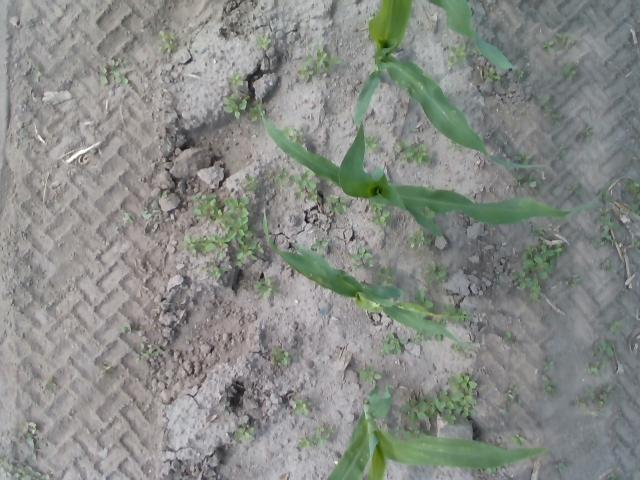Maize: (259, 108, 612, 236), (353, 1, 545, 169), (262, 208, 481, 348), (327, 402, 544, 480), (428, 0, 518, 71)
Weeds: (184, 191, 265, 279), (401, 372, 479, 436), (513, 241, 561, 302), (298, 44, 344, 86), (592, 206, 620, 253), (393, 136, 430, 164), (0, 459, 50, 479), (592, 382, 620, 414), (98, 58, 130, 86), (289, 171, 318, 201), (534, 94, 564, 120), (153, 29, 180, 55), (221, 94, 249, 118), (498, 382, 520, 412), (379, 333, 406, 356), (250, 276, 274, 301), (365, 204, 391, 227), (311, 421, 333, 448), (267, 345, 293, 367), (625, 180, 640, 216), (351, 246, 373, 270), (137, 340, 162, 361), (360, 364, 382, 386), (22, 419, 38, 448), (235, 422, 258, 442), (516, 173, 540, 192), (292, 398, 314, 418), (590, 338, 612, 358), (426, 262, 448, 282), (233, 174, 258, 190), (564, 270, 586, 288), (449, 42, 466, 65), (410, 292, 434, 308), (528, 222, 548, 241), (119, 316, 138, 336), (328, 196, 348, 215), (20, 62, 41, 80), (267, 165, 286, 184), (378, 266, 397, 284), (141, 200, 160, 218), (584, 362, 606, 377), (556, 32, 576, 48), (409, 232, 431, 246), (540, 376, 557, 394), (255, 33, 272, 50), (310, 236, 330, 250), (296, 436, 313, 452), (282, 127, 302, 140), (514, 150, 532, 164), (442, 305, 467, 315), (566, 183, 580, 200), (608, 320, 624, 334), (564, 66, 578, 82), (227, 73, 244, 86), (580, 123, 594, 138), (504, 330, 516, 347), (250, 104, 262, 120), (482, 67, 498, 79), (626, 236, 640, 249), (556, 146, 568, 161), (570, 396, 586, 407), (366, 136, 378, 150), (541, 40, 555, 52), (44, 376, 54, 392), (554, 459, 566, 472), (512, 433, 524, 446), (101, 363, 112, 377), (584, 384, 594, 399), (440, 317, 467, 322), (602, 260, 614, 271), (450, 142, 462, 153), (484, 467, 502, 474), (543, 358, 552, 372), (470, 46, 482, 56), (121, 213, 132, 222), (415, 333, 427, 341), (607, 472, 618, 480), (516, 71, 527, 78), (450, 345, 462, 351), (499, 140, 508, 148), (436, 333, 445, 340), (114, 228, 122, 234), (163, 191, 170, 196)
